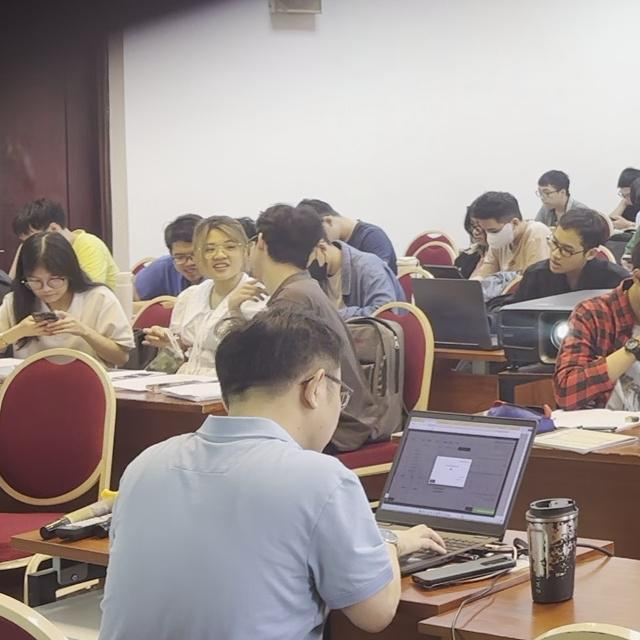Looking away: (253, 205, 308, 281), (204, 235, 240, 276), (549, 232, 577, 271), (485, 215, 507, 248), (539, 186, 555, 207)
Phone use: (1, 233, 134, 365)
